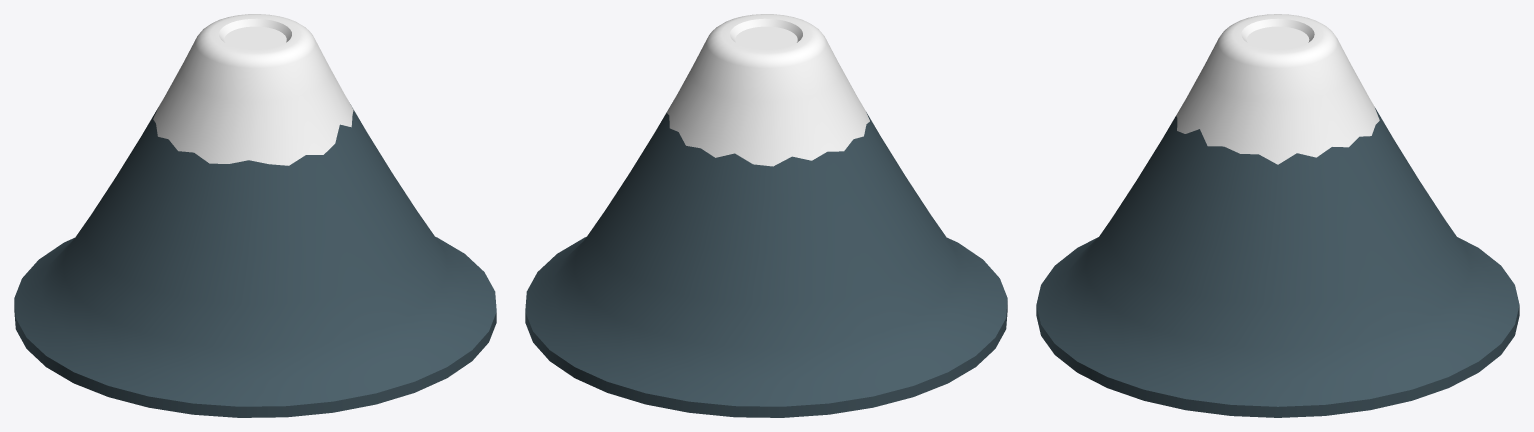
Rendered from mount_fuji.gltf.
3 views of the same model, side by side, from view 1: azimuth 30°, elevation 25°; view 2: azimuth 150°, elevation 25°; view 3: azimuth 270°, elevation 25° (orthographic).
Visible parts, largest first — view 1: Cone; view 2: Cone; view 3: Cone.
Boxes of the visible parts, x1,y1,x2,y2 form: Cone: [14, 14, 496, 417]; Cone: [525, 14, 1007, 417]; Cone: [1036, 14, 1519, 417].
Bounding box in the file's own units: 2.33 × 1.5 × 2.33.
1 material, 1 textured.
